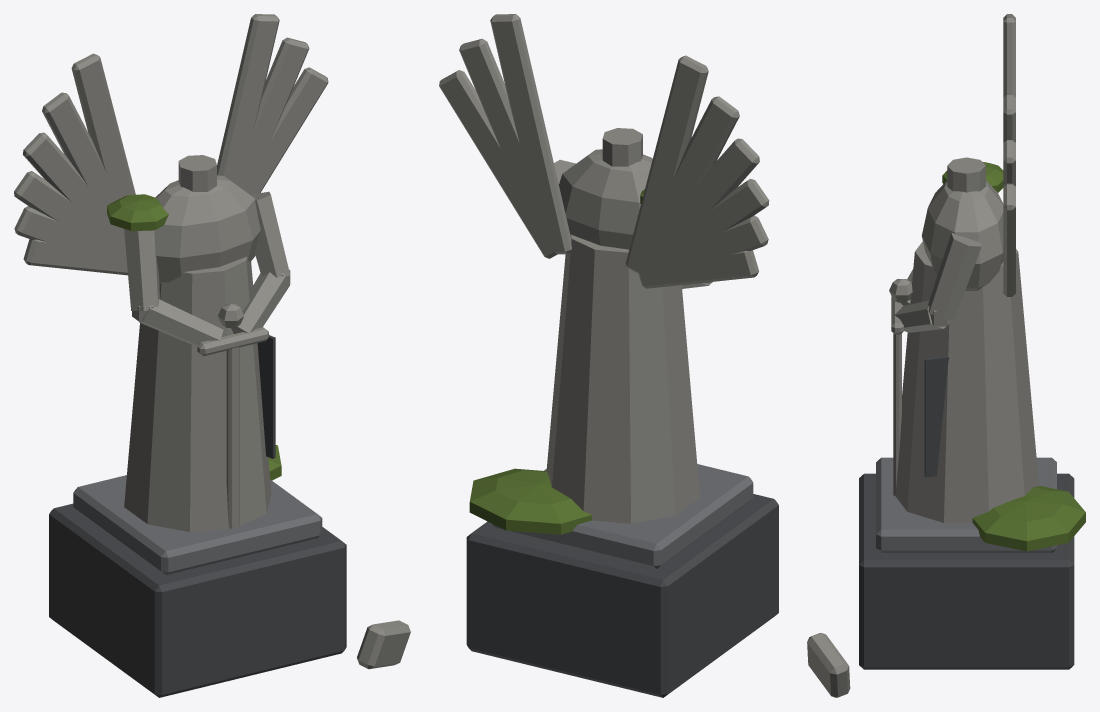
The model's file is statue.glb.
3 renders of one model, left to right at view 1: azimuth 30°, elevation 25°; view 2: azimuth 150°, elevation 25°; view 3: azimuth 270°, elevation 25°, orthographic. The views are drawn at different scales.
Parts seen in each view (by area): view 1: Statue; view 2: Statue; view 3: Statue.
Boxes of the visible parts, x1=… form: Statue: x1=14, y1=14, x2=410, y2=697; Statue: x1=439, y1=14, x2=778, y2=697; Statue: x1=807, y1=14, x2=1085, y2=697.
Size of the model in its own units: 0.8124 by 1.49 by 0.6471.
